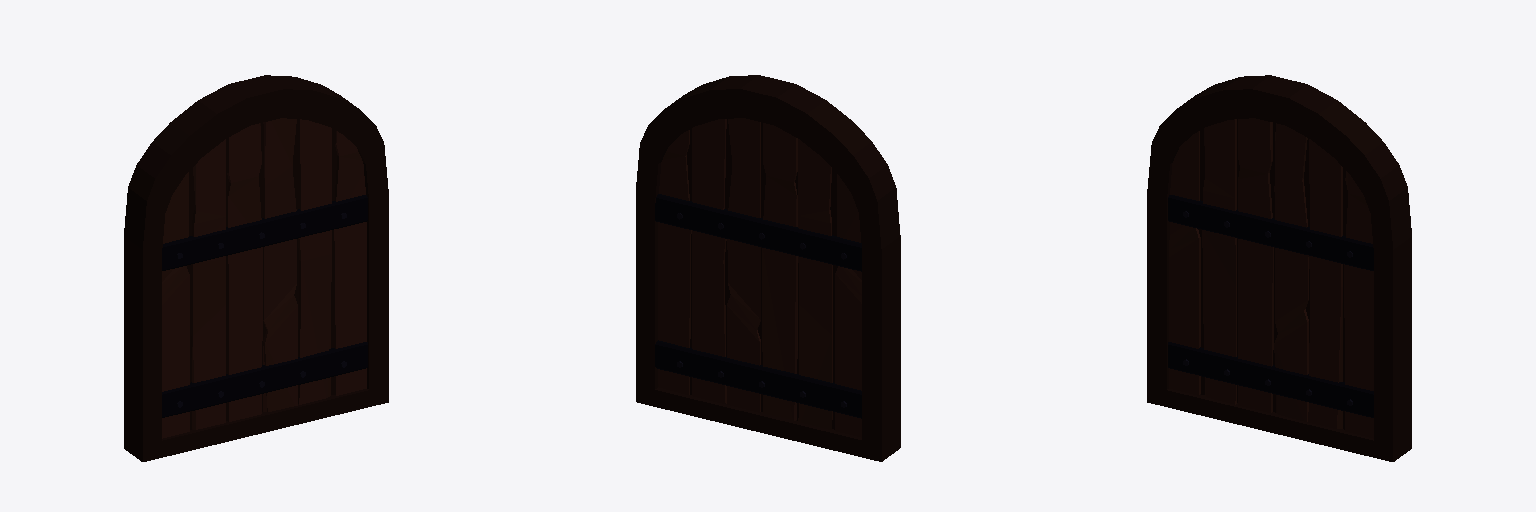
File: Arch_Door.obj
3 renders of one model, left to right at view 1: azimuth 30°, elevation 25°; view 2: azimuth 150°, elevation 25°; view 3: azimuth 330°, elevation 25°, orthographic.
Parts seen in each view (by area): view 1: Arch_Door; view 2: Arch_Door; view 3: Arch_Door.
Part boxes in pixels (bbox=[...]): Arch_Door: bbox=[124, 75, 388, 461]; Arch_Door: bbox=[636, 75, 900, 461]; Arch_Door: bbox=[1147, 75, 1411, 461].
Size of the model in its own units: 2.42 by 3.19 by 0.3296.